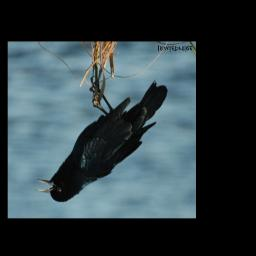Crow: (36, 76, 167, 202)
